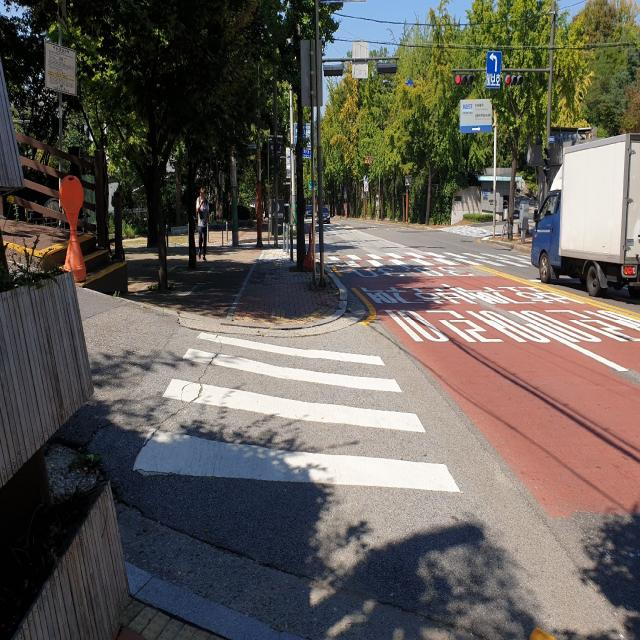횡단보도: (130, 326, 463, 499), (322, 253, 536, 270)
